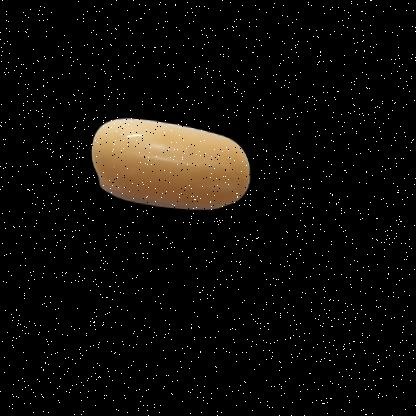t-muse: (92, 116, 250, 206)
